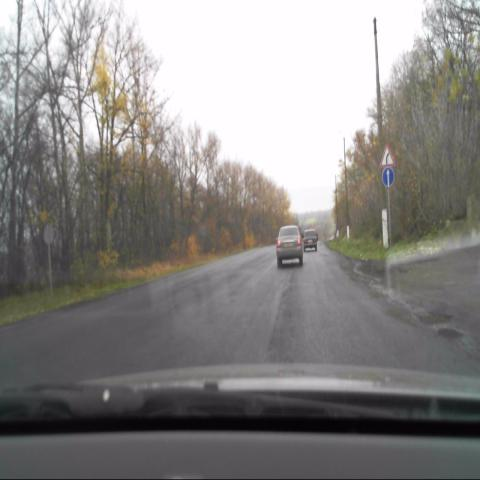1_11: (380, 145, 394, 166)
